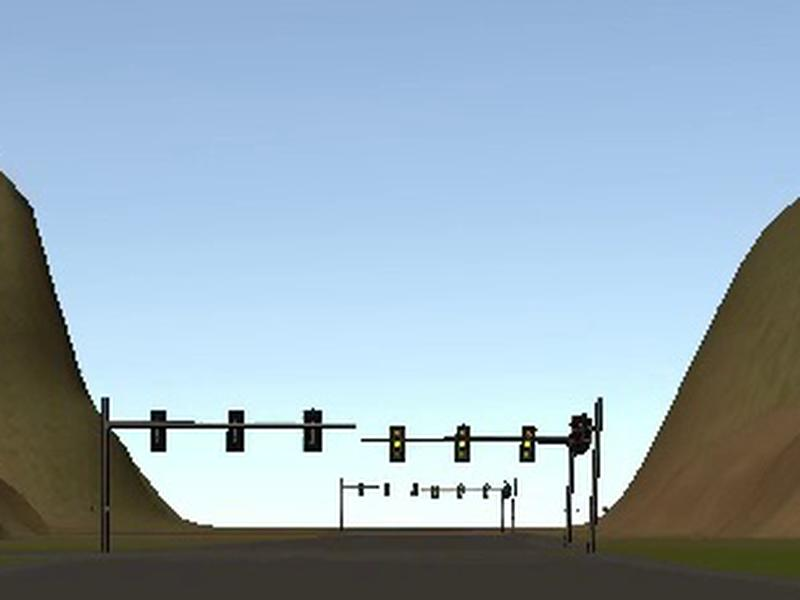Yellow: (519, 426, 536, 463), (390, 426, 406, 463), (454, 427, 470, 464)
